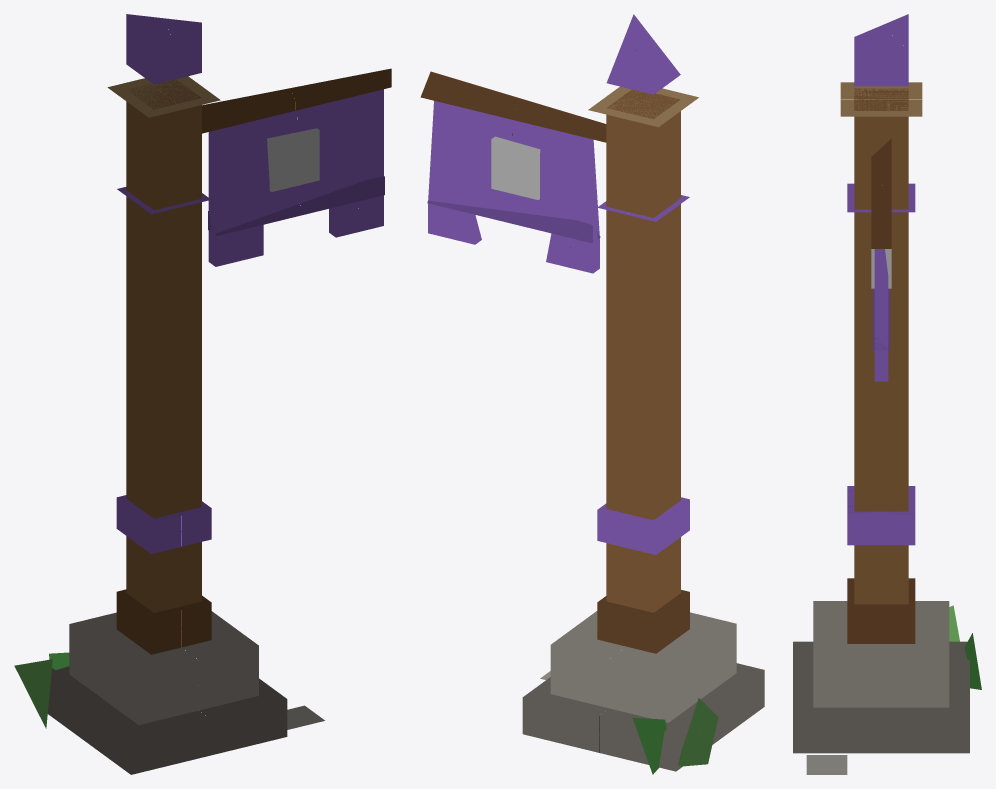
Rendered from territory-marker-moth_lod1.glb.
The picture shows the model from 3 angles, left to right: view 1: azimuth 30°, elevation 25°; view 2: azimuth 150°, elevation 25°; view 3: azimuth 270°, elevation 25°; orthographic projection. The views are drawn at different scales.
Parts seen in each view (by area): view 1: marker-post, banner; view 2: marker-post, banner; view 3: marker-post, banner.
Boxes of the visible parts, <box> form: marker-post: <box>14,14,324,774</box>; banner: <box>202,68,391,266</box>; marker-post: <box>522,14,764,774</box>; banner: <box>420,71,606,273</box>; marker-post: <box>793,14,981,774</box>; banner: <box>871,139,891,381</box>.
Size of the model in its own units: 0.5581 by 1.12 by 0.2778.
